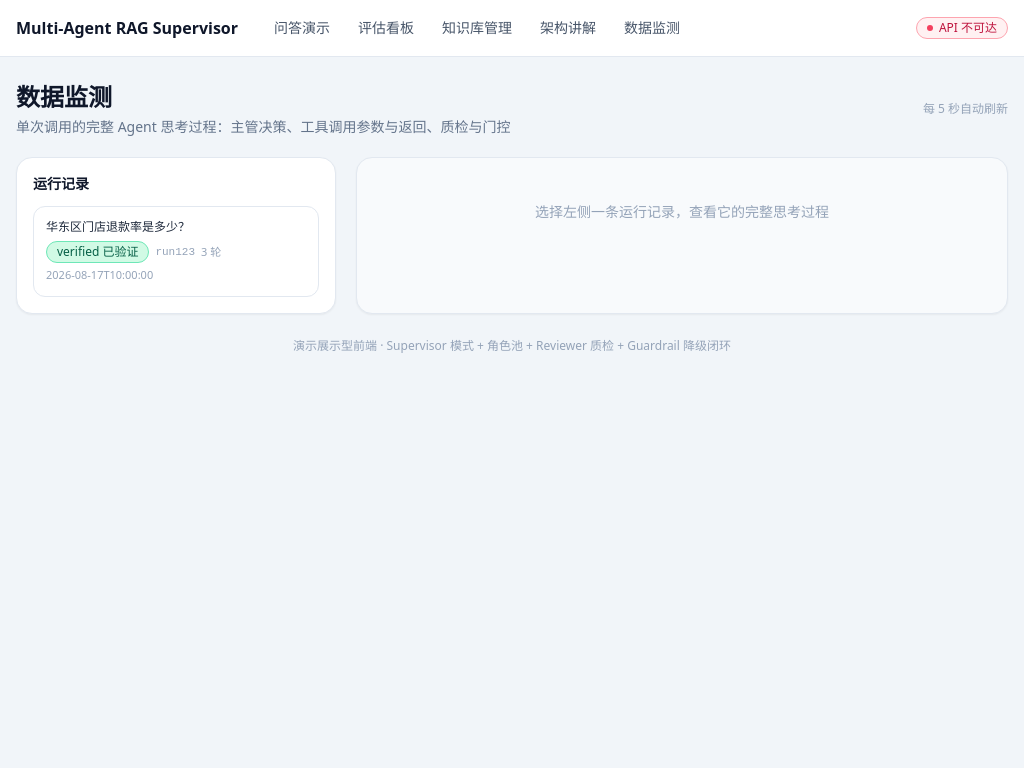
MonitorPage › 渲染运行列表并展示选中运行的完整 Agent 思考过程
Check: the text "华东区门店退款率是多少？" is shown, box top-left (46, 218), bottom-right (190, 235)
Click the button with test id "monitor-run-item": (176, 251) top-left (33, 206), bottom-right (319, 296)
(page scrolled)
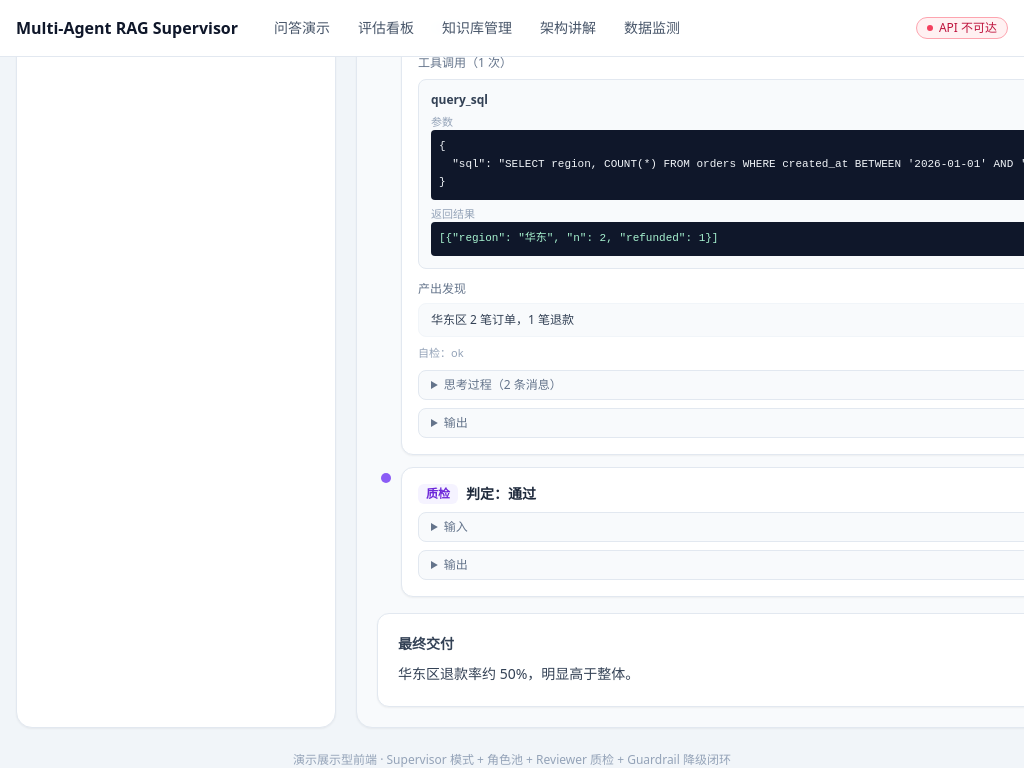
Check: the text "质检" is shown, box top-left (418, 484), bottom-right (458, 504)
Check: the text "query_sql" is shown, box top-left (431, 90), bottom-right (488, 108)
Check: the text "返回结果" is shown, box top-left (431, 206), bottom-right (475, 221)
Click the heading "思考过程（2 条消息）": (503, 384) top-left (444, 376), bottom-right (562, 392)
(page scrolled)
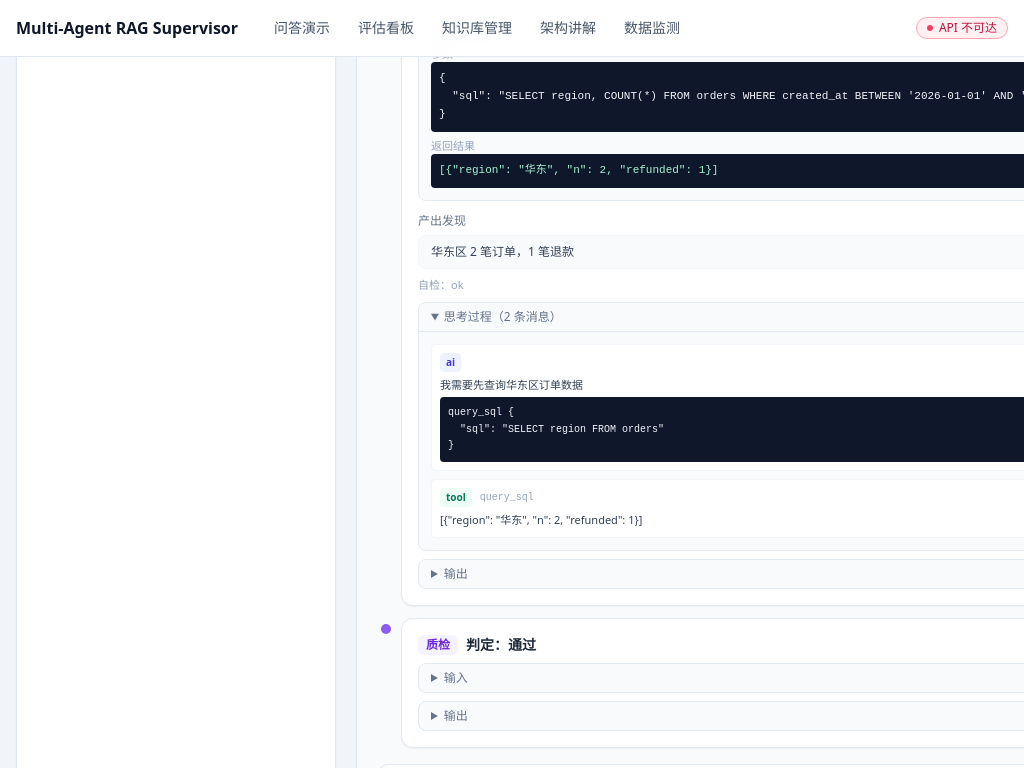
Check: the text "我需要先查询华东区订单数据" is shown, box top-left (440, 376), bottom-right (583, 392)
